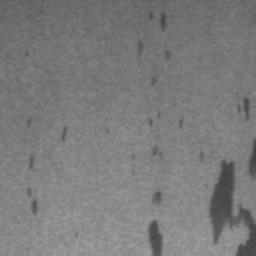Red iron sheet: (198, 97, 256, 256), (147, 116, 184, 155), (137, 10, 168, 56), (148, 189, 163, 256), (26, 187, 38, 215), (60, 127, 68, 143), (28, 154, 35, 172), (26, 115, 35, 128), (150, 77, 159, 87)
